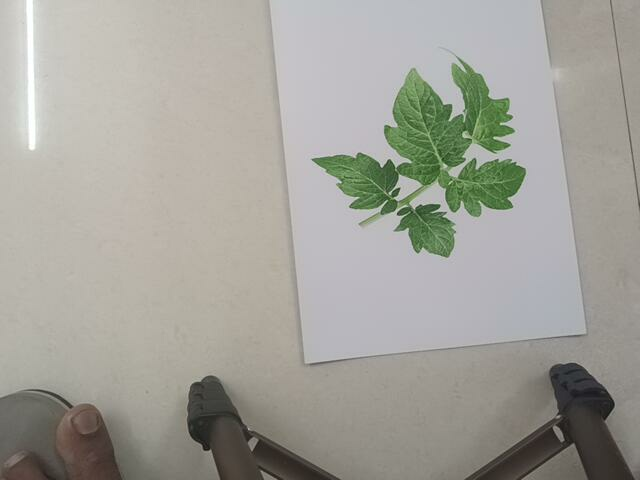Tomamto_Leaf_Healthy: (315, 37, 529, 260)
